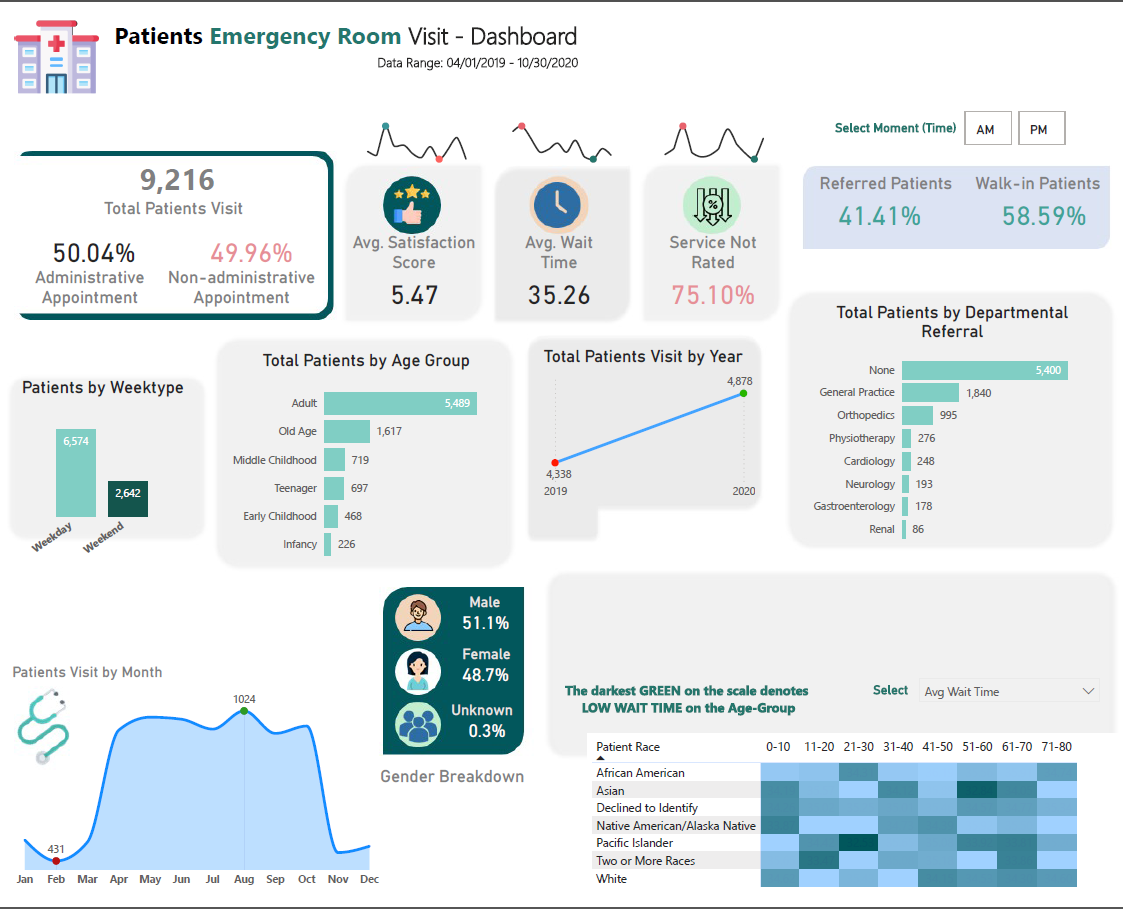

The page's visual inventory and layout, read from the dashboard file:
{"tool":"powerbi","page":{"name":"Page 1","canvas":[1280,1020],"ordinal":0},"visuals":[{"type":"card","fields":{"Values":["Calculations.Total Patients"]},"box":[117.3,164.2,168.9,64.1],"z":0},{"type":"card","fields":{"Values":["Calculations.% Non-administrative Schedule"]},"box":[214.3,244,143.9,68.8],"z":1000},{"type":"card","fields":{"Values":["Calculations.% Administrative Schedule"]},"box":[26.6,236.2,158,84.5],"z":2000},{"type":"card","title":"Avg. Satisfaction Score","fields":{"Values":["Calculations.Avg Satisfaction Score"]},"box":[394.2,256.5,153.3,92.3],"z":3000},{"type":"card","title":"Avg. Wait Time","fields":{"Values":["Calculations.Avg Wait Time"]},"box":[580.3,256.5,111.1,92.3],"z":4000},{"type":"pivotTable","fields":{"Values":["Calculations.Avg Satisfaction Score"],"Rows":["Patient Dataset.patient_race"],"Columns":["Patient Dataset.Age Bucket"]},"box":[667.9,827.4,611.6,192.4],"z":5000},{"type":"slicer","fields":{"Values":["Parameter.Parameter"]},"box":[1035.5,753.9,225.2,56.3],"z":6000},{"type":"barChart","fields":{"Category":["Patient Dataset.Age Group"],"Y":["Calculations.Total Patients"]},"box":[251.8,391,328.5,251.8],"z":7000},{"type":"lineChart","title":"Patients Visit by Month","fields":{"Category":["Date Table.Month-Year"],"Y":["Calculations.Total Patients","Calculations.Max/Min Value Point (Month)"]},"box":[26.6,755.5,416.1,264.3],"z":8000},{"type":"advancedSlicerVisual","fields":{"Values":["Patient Dataset.moment"]},"box":[1091.8,117.3,187.7,48.5],"z":9000},{"type":"lineChart","title":"Total Patients Visit by Year","fields":{"Category":["Date Table.Year"],"Y":["Calculations.Total Patients"]},"box":[613.1,386.3,250.3,183],"z":10000},{"type":"barChart","title":"Total Patients by Departmental Referral","fields":{"Y":["Calculations.Total Patients"],"Category":["Patient Dataset.department_referral"]},"box":[911.9,336.3,341,284.7],"z":11000},{"type":"card","fields":{"Values":["Calculations.% Referred Patients"]},"box":[918.2,194,164.2,84.5],"z":12000},{"type":"card","fields":{"Values":["Calculations.% Unreferred Patients"]},"box":[1112.1,194,148.6,84.5],"z":13000},{"type":"card","fields":{"Values":["Calculations.HitMap Caption"]},"box":[613.1,750.8,339.4,72],"z":14000},{"type":"textbox","box":[26.6,292.5,150.2,62.6],"z":15000},{"type":"textbox","box":[176.7,292.5,195.5,76.6],"z":16000},{"type":"card","title":"Service Not Rated","fields":{"Values":["Calculations.% No ratings"]},"box":[747.7,256.5,125.1,93.8],"z":17000},{"type":"textbox","box":[918.2,184.6,178.3,43.8],"z":18000},{"type":"textbox","box":[1092.2,185.2,176,68],"z":19000},{"type":"columnChart","title":"Patients by Weektype","fields":{"Category":["Date Table.Weektype"],"Y":["Calculations.Total Patients"]},"box":[6.3,420.8,222.1,222.1],"z":20000},{"type":"card","fields":{"Values":["Calculations.% Female Visits"]},"box":[497.4,727.3,109.5,64.1],"z":21000},{"type":"card","fields":{"Values":["Calculations.% Male Visits"]},"box":[503.7,669.5,95.4,62.6],"z":22000},{"type":"card","fields":{"Values":["Calculations.% Non-confirming Gender Visits"]},"box":[502.1,786.8,103.2,72],"z":23000},{"type":"textbox","box":[109.5,212.7,176.7,62.6],"z":24000},{"type":"PBI_CV_25997FEB_F466_44FA_B562_AC4063283C4C","fields":{"measure":["Calculations.Avg Satisfaction Score"],"axis":["Date Table.Month-Year"]},"box":[400.4,118.9,151.7,65.7],"z":25000},{"type":"PBI_CV_25997FEB_F466_44FA_B562_AC4063283C4C","fields":{"measure":["Calculations.Avg Wait Time"],"axis":["Date Table.Month-Year"]},"box":[564.7,118.9,151.7,65.7],"z":26000},{"type":"PBI_CV_25997FEB_F466_44FA_B562_AC4063283C4C","fields":{"measure":["Calculations.% No ratings"],"axis":["Date Table.Month-Year"]},"box":[738.3,118.9,151.7,65.7],"z":27000},{"type":"textbox","box":[428.6,850.9,184.6,37.5],"z":28000},{"type":"textbox","box":[491.1,783.6,114.2,34.4],"z":29000},{"type":"textbox","box":[495.8,721.1,114.2,34.4],"z":30000},{"type":"textbox","box":[494.3,661.6,114.2,34.4],"z":31000},{"type":"textbox","box":[125.1,9.4,550.6,48.5],"z":32000},{"type":"image","box":[10.9,4.7,106.4,104.8],"z":33000},{"type":"textbox","box":[957.3,763.3,111.1,36],"z":34000},{"type":"textbox","box":[939,123.6,158,36],"z":35000},{"type":"textbox","box":[423.9,48.5,292.5,40.7],"z":36000}]}

Visuals, with their boxes in screenshot pixels (x1, y1, x2, y2), scaled from the page's 1280x1020 canvas onto the 1123x909 screenshot:
card - Calculations.Total Patients: [left=103, top=146, right=251, bottom=203]
card - Calculations.% Non-administrative Schedule: [left=188, top=217, right=314, bottom=279]
card - Calculations.% Administrative Schedule: [left=23, top=210, right=162, bottom=286]
"Avg. Satisfaction Score" card: [left=346, top=229, right=480, bottom=311]
"Avg. Wait Time" card: [left=509, top=229, right=607, bottom=311]
pivotTable - Calculations.Avg Satisfaction Score x Patient Dataset.patient_race: [left=586, top=737, right=1122, bottom=908]
slicer - Parameter.Parameter: [left=908, top=672, right=1106, bottom=722]
barChart - Patient Dataset.Age Group x Calculations.Total Patients: [left=221, top=348, right=509, bottom=573]
"Patients Visit by Month" lineChart: [left=23, top=673, right=388, bottom=908]
advancedSlicerVisual - Patient Dataset.moment: [left=958, top=105, right=1122, bottom=148]
"Total Patients Visit by Year" lineChart: [left=538, top=344, right=757, bottom=507]
"Total Patients by Departmental Referral" barChart: [left=800, top=300, right=1099, bottom=553]
card - Calculations.% Referred Patients: [left=806, top=173, right=950, bottom=248]
card - Calculations.% Unreferred Patients: [left=976, top=173, right=1106, bottom=248]
card - Calculations.HitMap Caption: [left=538, top=669, right=836, bottom=733]
textbox: [left=23, top=261, right=155, bottom=316]
textbox: [left=155, top=261, right=327, bottom=329]
"Service Not Rated" card: [left=656, top=229, right=766, bottom=312]
textbox: [left=806, top=165, right=962, bottom=204]
textbox: [left=958, top=165, right=1113, bottom=226]
"Patients by Weektype" columnChart: [left=6, top=375, right=200, bottom=573]
card - Calculations.% Female Visits: [left=436, top=648, right=532, bottom=705]
card - Calculations.% Male Visits: [left=442, top=597, right=526, bottom=652]
card - Calculations.% Non-confirming Gender Visits: [left=441, top=701, right=531, bottom=765]
textbox: [left=96, top=190, right=251, bottom=245]
PBI_CV_25997FEB_F466_44FA_B562_AC4063283C4C - Calculations.Avg Satisfaction Score x Date Table.Month-Year: [left=351, top=106, right=484, bottom=165]
PBI_CV_25997FEB_F466_44FA_B562_AC4063283C4C - Calculations.Avg Wait Time x Date Table.Month-Year: [left=495, top=106, right=629, bottom=165]
PBI_CV_25997FEB_F466_44FA_B562_AC4063283C4C - Calculations.% No ratings x Date Table.Month-Year: [left=648, top=106, right=781, bottom=165]
textbox: [left=376, top=758, right=538, bottom=792]
textbox: [left=431, top=698, right=531, bottom=729]
textbox: [left=435, top=643, right=535, bottom=673]
textbox: [left=434, top=590, right=534, bottom=620]
textbox: [left=110, top=8, right=593, bottom=52]
image: [left=10, top=4, right=103, bottom=98]
textbox: [left=840, top=680, right=937, bottom=712]
textbox: [left=824, top=110, right=962, bottom=142]
textbox: [left=372, top=43, right=629, bottom=79]
